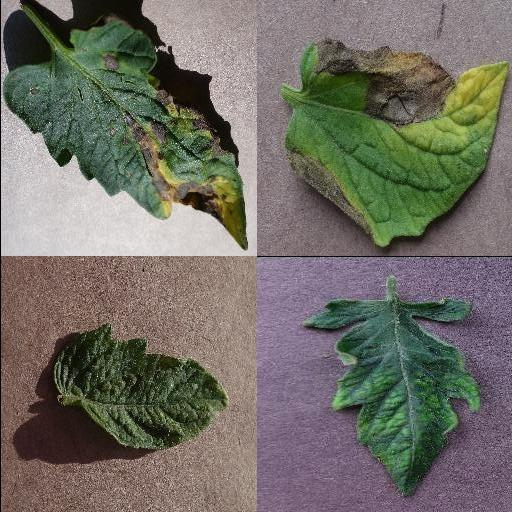Early Blight: (0, 14, 246, 252), (279, 40, 509, 248)
Mosaic Virus: (300, 294, 480, 498)
Spider Mites: (54, 326, 230, 448)
